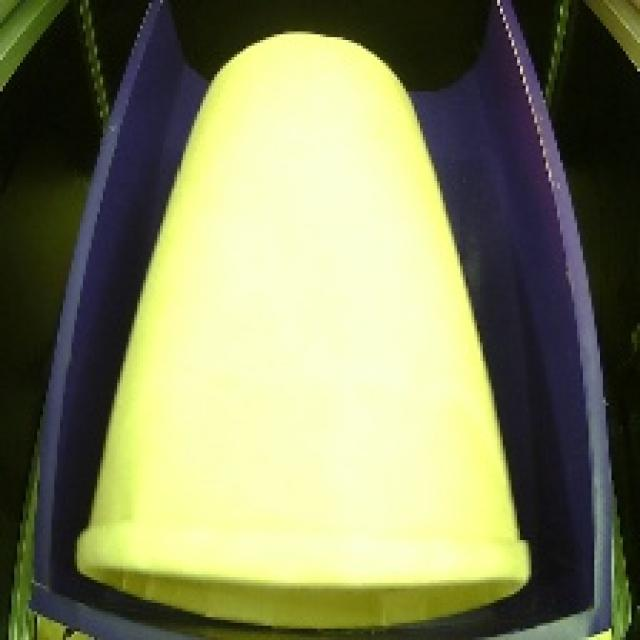cups: (61, 19, 542, 636)
